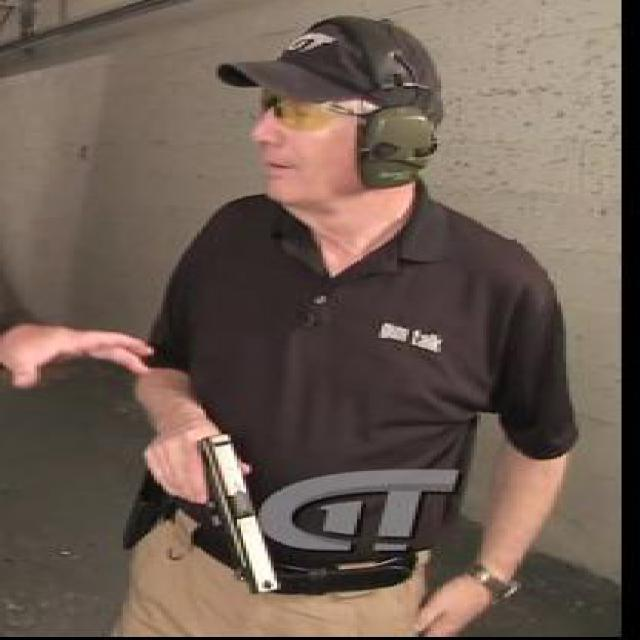gun: (135, 428, 280, 594)
